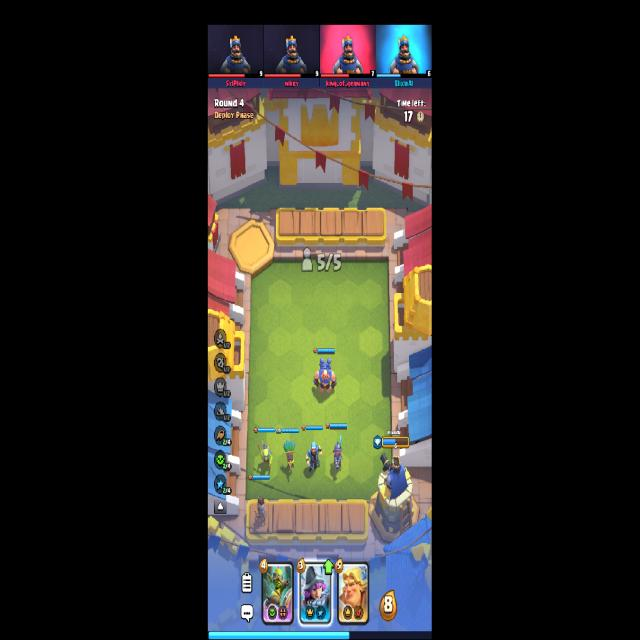card_goblin_machine: (262, 561, 294, 623)
card_golden_knight: (337, 561, 369, 626)
card_musketeer: (298, 560, 332, 624)
dart_goblin: (284, 442, 296, 472)
electro_giant: (313, 359, 336, 391)
musketeer: (333, 436, 344, 470)
princess: (254, 496, 269, 528)
spear_goblin: (257, 440, 273, 469)
wizard: (306, 442, 322, 473)
